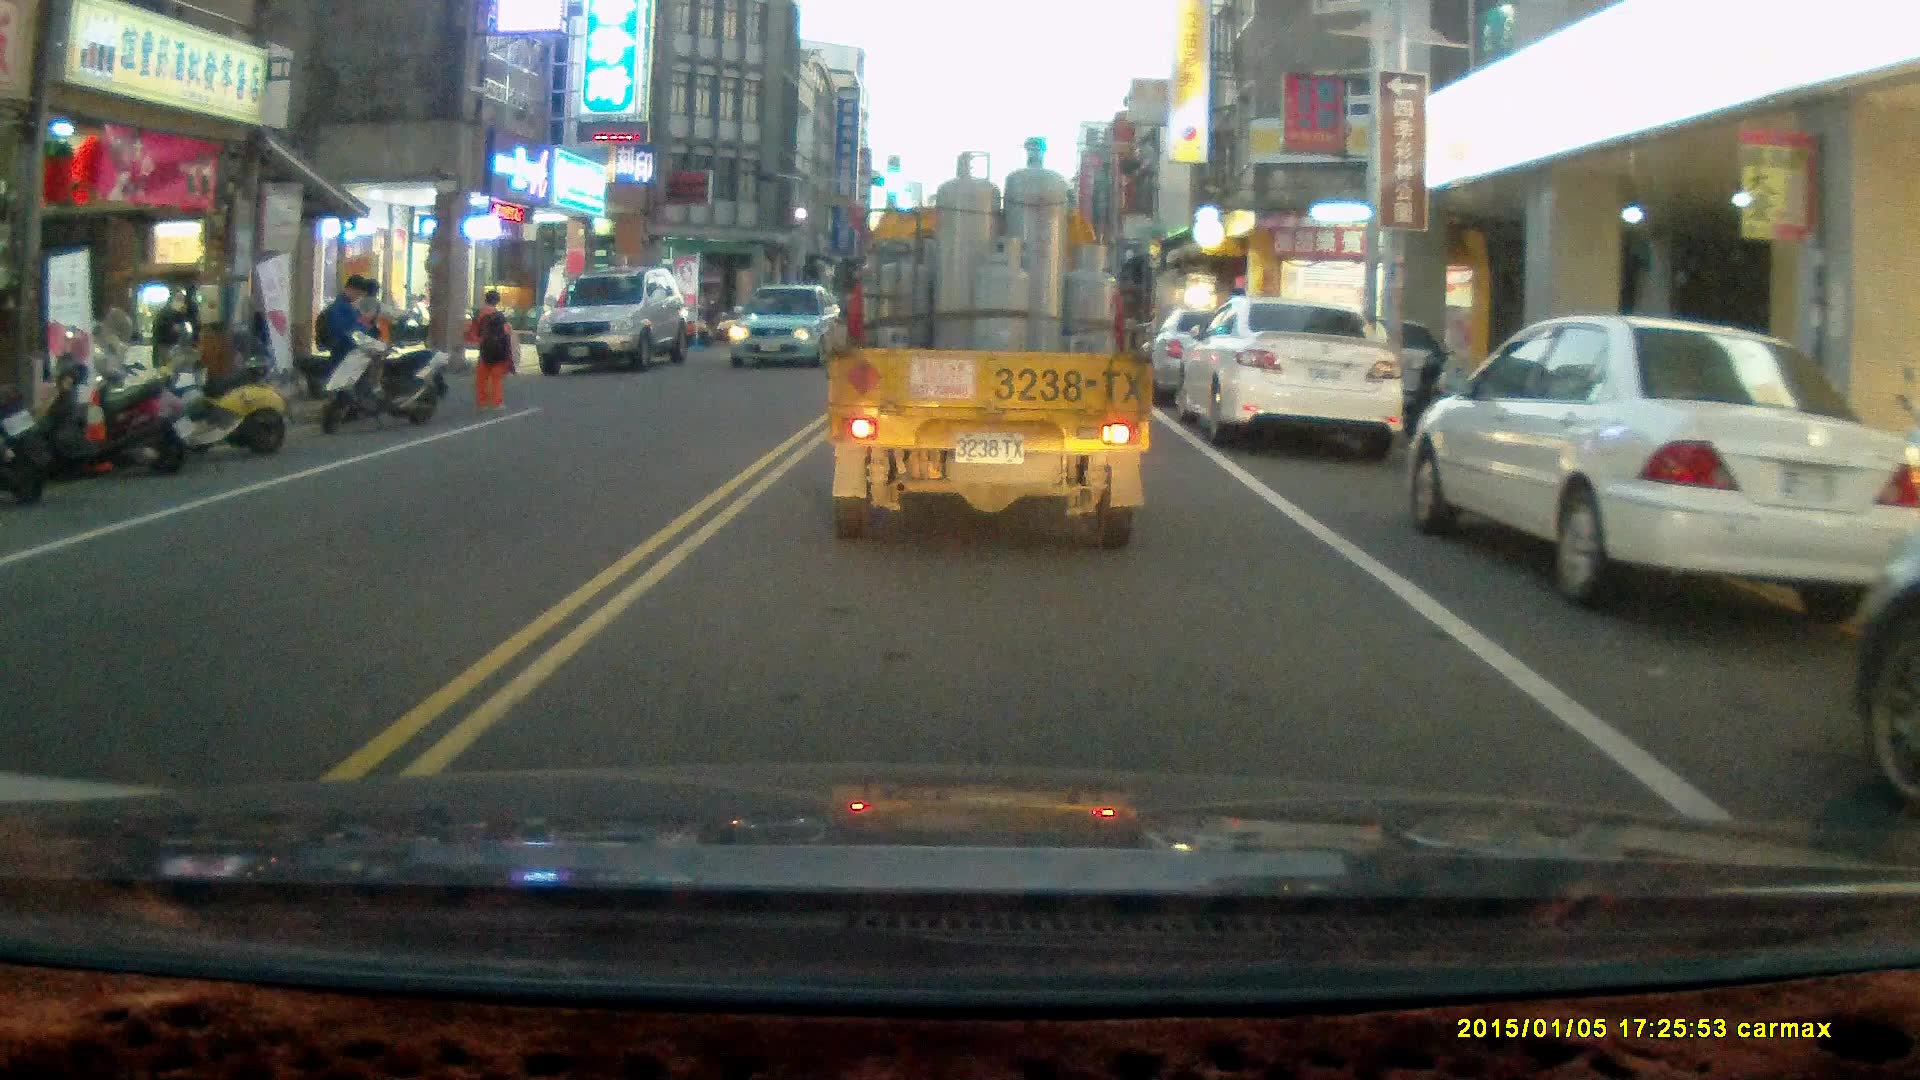pedestrian: (305, 275, 368, 425), (148, 283, 197, 432), (463, 288, 514, 408)
vehicle: (1405, 314, 1920, 619), (823, 145, 1158, 551), (1178, 297, 1411, 452), (534, 270, 695, 376), (726, 284, 847, 369)
